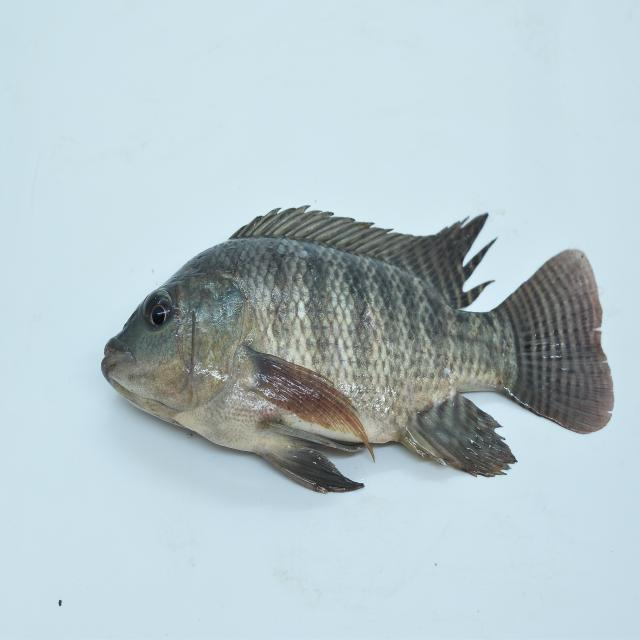Healthy Fish: (100, 202, 617, 496)
